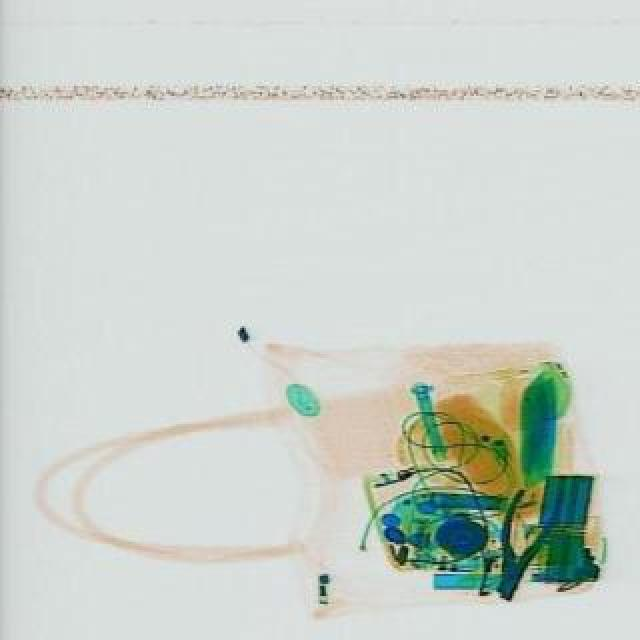wrench: (474, 476, 566, 604)
